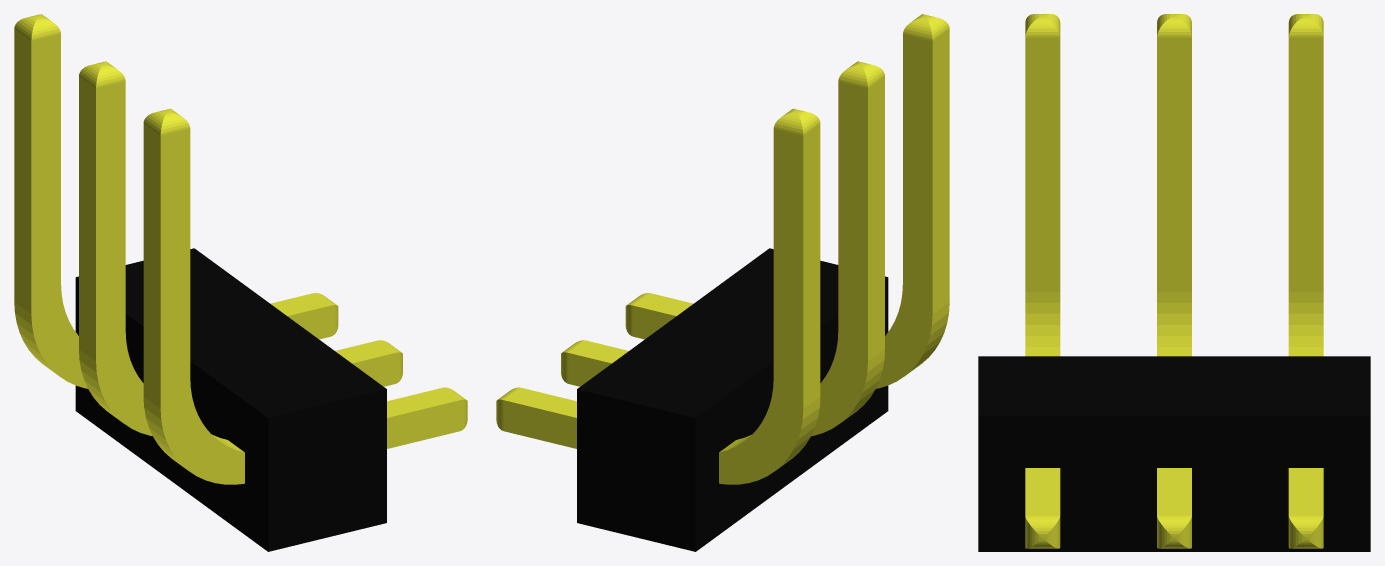
File: konektoratas.fbx
3 views of the same model, side by side, from view 1: azimuth 30°, elevation 25°; view 2: azimuth 150°, elevation 25°; view 3: azimuth 270°, elevation 25° (orthographic).
Parts seen in each view (by area): view 1: ImageToStl.com_resistor025w-1k0.004; view 2: ImageToStl.com_resistor025w-1k0.004; view 3: ImageToStl.com_resistor025w-1k0.004.
Part boxes in pixels (box(x1,y1,x2,y2)): ImageToStl.com_resistor025w-1k0.004: box(14, 14, 467, 551); ImageToStl.com_resistor025w-1k0.004: box(496, 14, 949, 551); ImageToStl.com_resistor025w-1k0.004: box(978, 14, 1370, 551).
Bounding box in the file's own units: 20.55 × 27.23 × 21.9.
